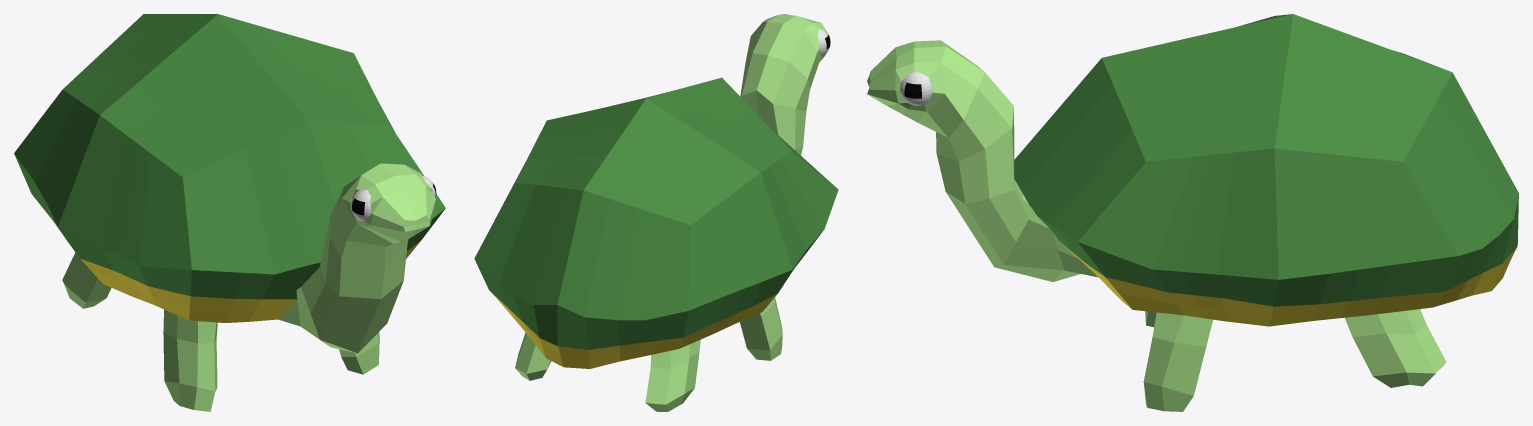
The model's file is Færdig skildpadde i blender (uden hjelm).fbx.
3 renders of one model, left to right at view 1: azimuth 30°, elevation 25°; view 2: azimuth 150°, elevation 25°; view 3: azimuth 270°, elevation 25°, orthographic. The views are drawn at different scales.
Visible parts, largest first — view 1: Cube; view 2: Cube; view 3: Cube.
Part boxes in pixels (x1=…): Cube: x1=14, y1=14, x2=445, y2=411; Cube: x1=474, y1=14, x2=838, y2=411; Cube: x1=867, y1=14, x2=1518, y2=411.
Bounding box in the file's own units: 160 × 151 × 254.
